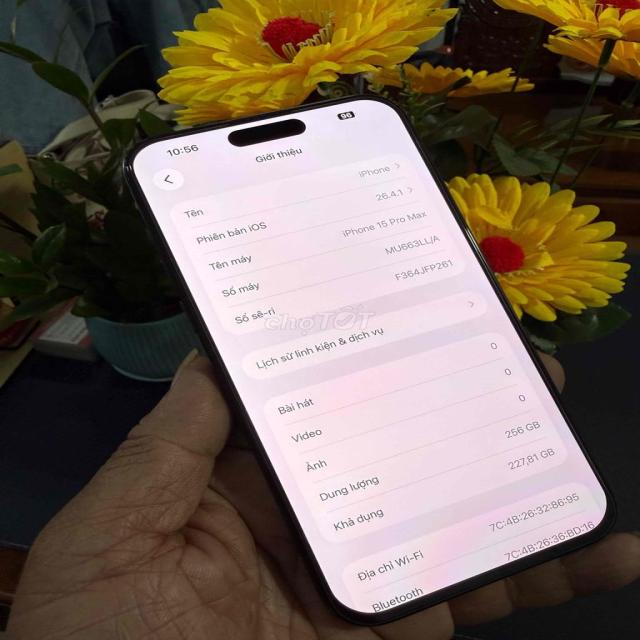gen_15: (117, 94, 622, 622)
